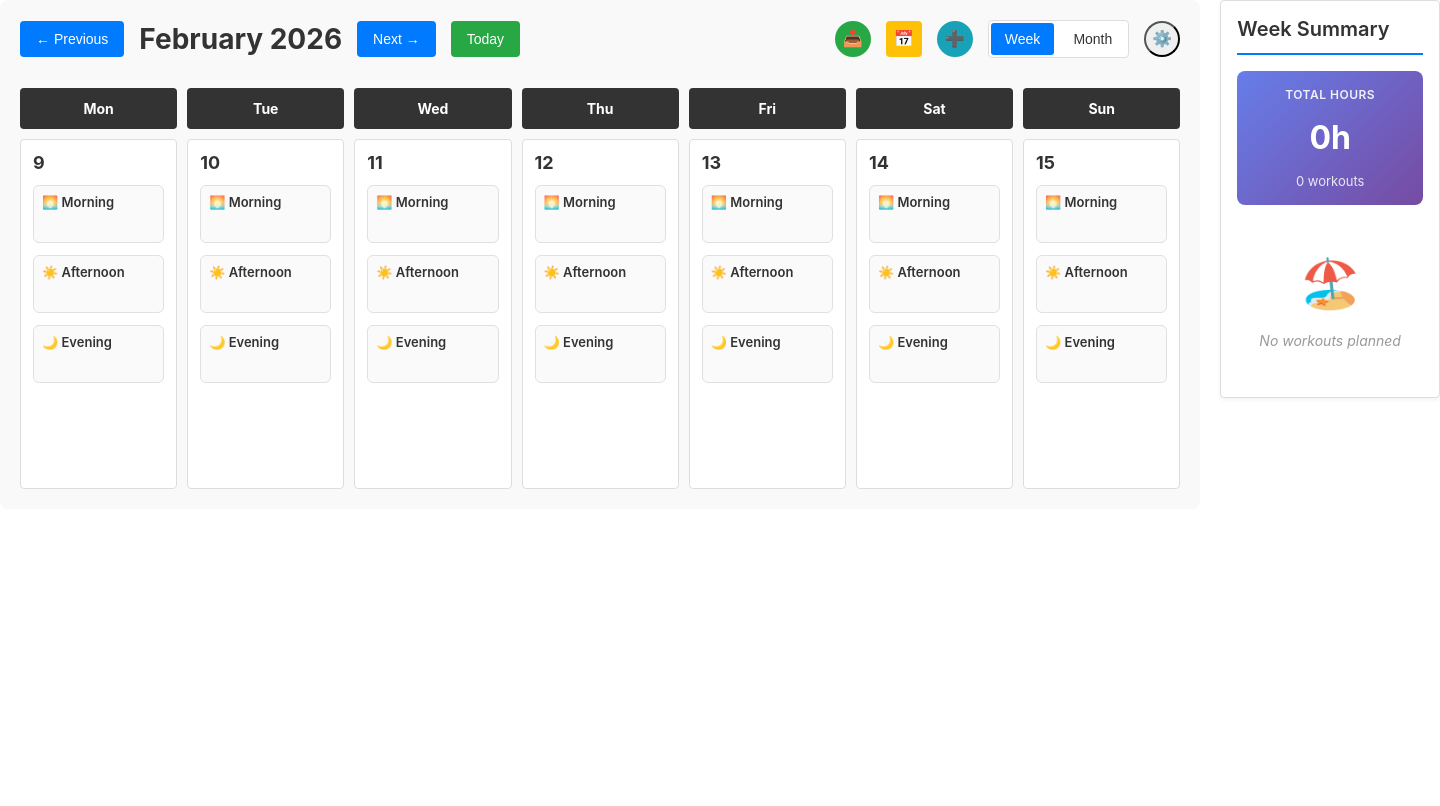
Test: Calendar Component › should navigate to previous month
Switch to month view first
What coordinates should you click on to do the following:
click the button "Month"
I would click on:
 (1093, 39)
Its box is top-left (1059, 23), bottom-right (1126, 55).
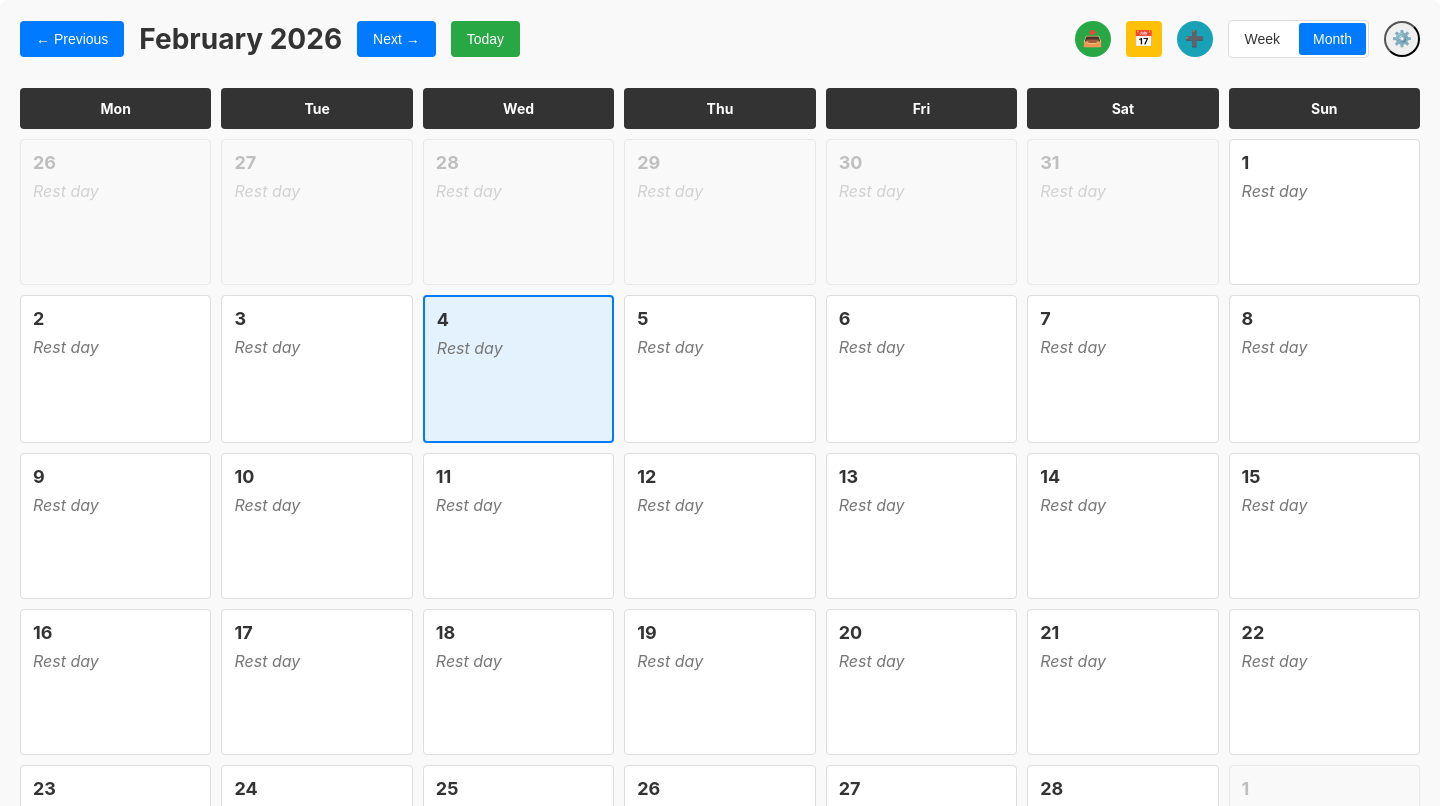
What coordinates should you click on to do the following:
click the button "← Previous"
I would click on:
 (72, 39)
Its box is top-left (20, 21), bottom-right (124, 57).
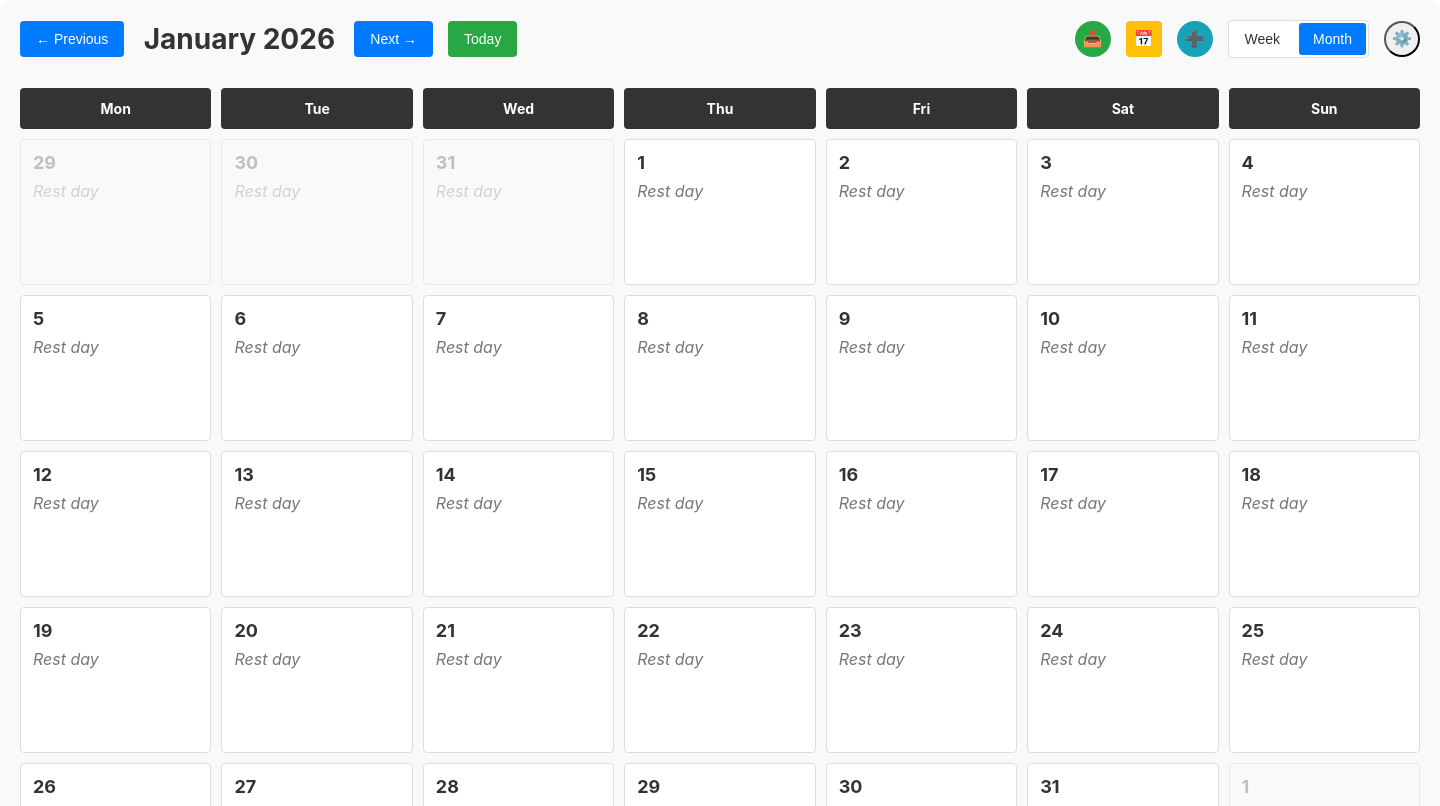
Expected: the heading "January 2026" is shown, top-left (139, 22), bottom-right (339, 56)
